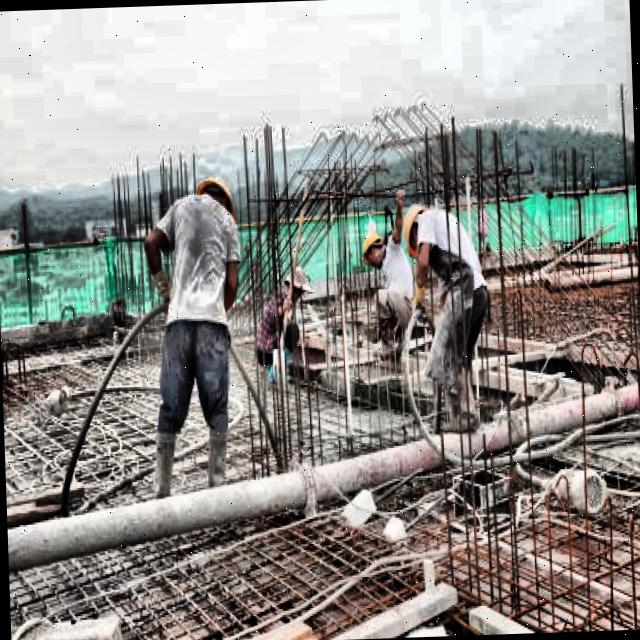helmet: (194, 172, 236, 226), (399, 196, 432, 261), (283, 262, 310, 304), (359, 228, 387, 266)
